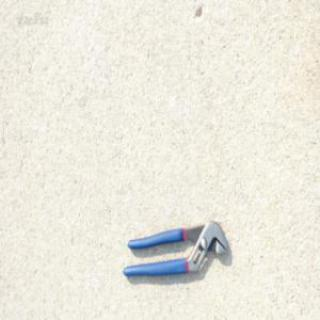Pliertrack_idkeyframe: (120, 218, 230, 277)
